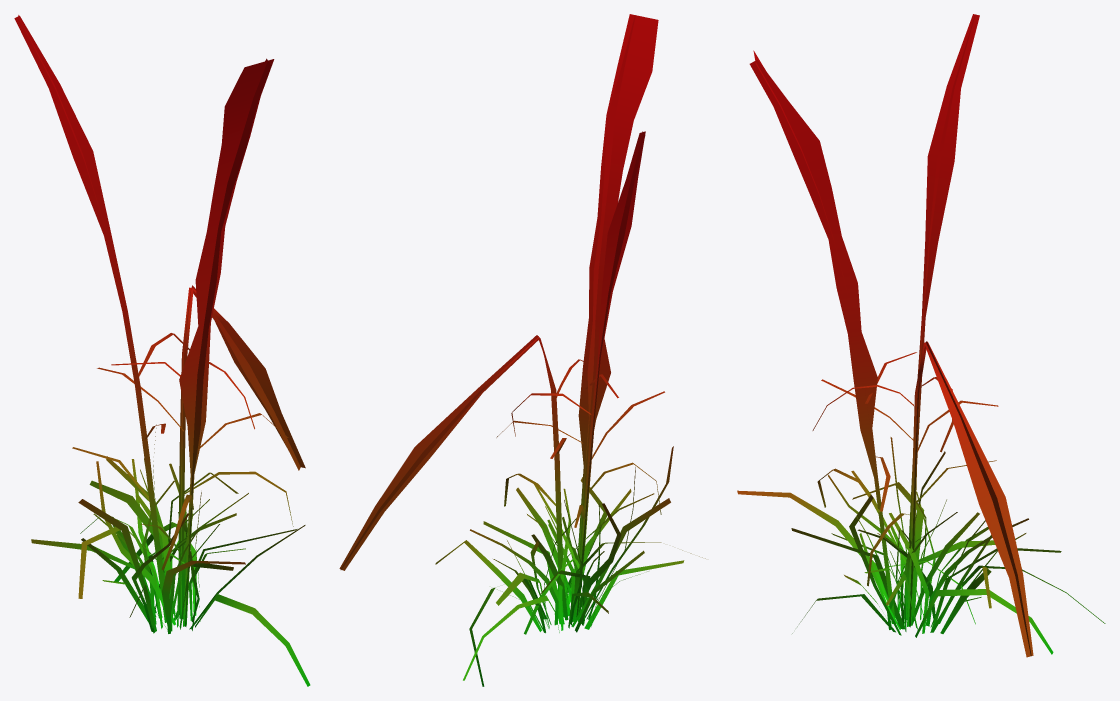
Rendered from Wheat_LOD2_Var4_smdoejyr.fbx.
3 views of the same model, side by side, from view 1: azimuth 30°, elevation 25°; view 2: azimuth 150°, elevation 25°; view 3: azimuth 270°, elevation 25° (orthographic). The views are drawn at different scales.
Visible parts, largest first — view 1: _pbxt_Var4_LOD2; view 2: _pbxt_Var4_LOD2; view 3: _pbxt_Var4_LOD2.
Boxes of the visible parts, box(x1,y1,x2,y2) form: _pbxt_Var4_LOD2: box(14, 15, 310, 686); _pbxt_Var4_LOD2: box(339, 14, 705, 686); _pbxt_Var4_LOD2: box(737, 14, 1105, 657).
Size of the model in its own units: 29.89 by 58.23 by 32.42.
